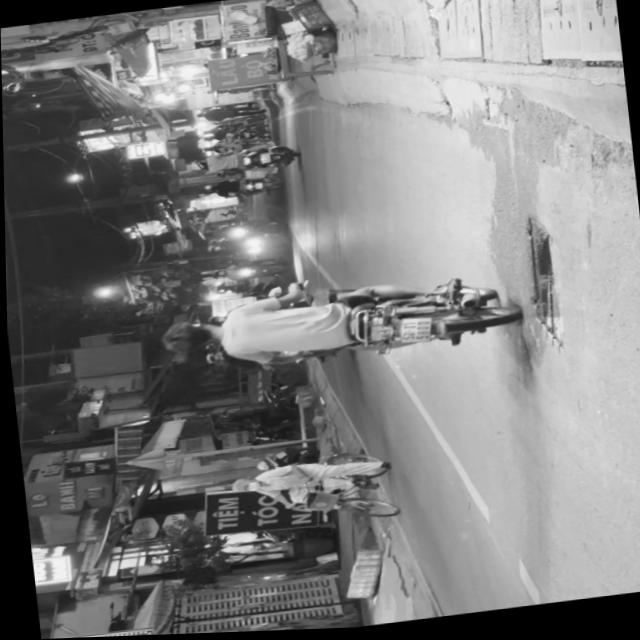licenseplate: (152, 264, 515, 389)
motorcyclist: (158, 320, 218, 358)
nohelmet: (394, 317, 432, 347)
